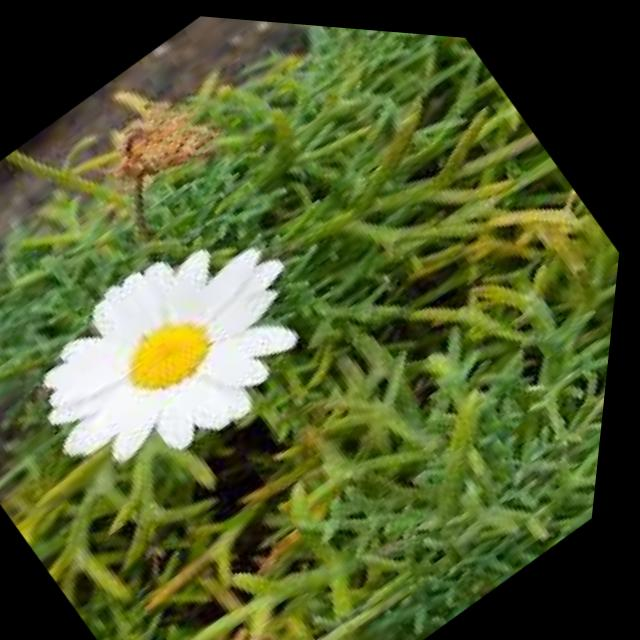Flower: (0, 173, 356, 520)
